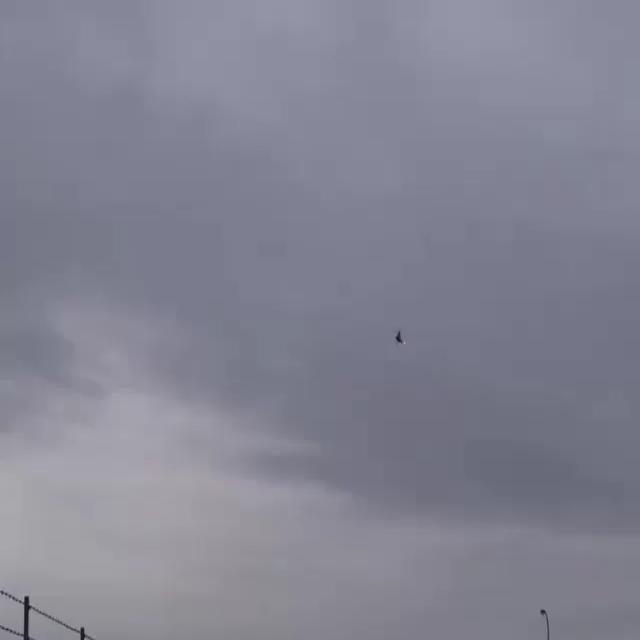Helicopter: (388, 321, 411, 352)
